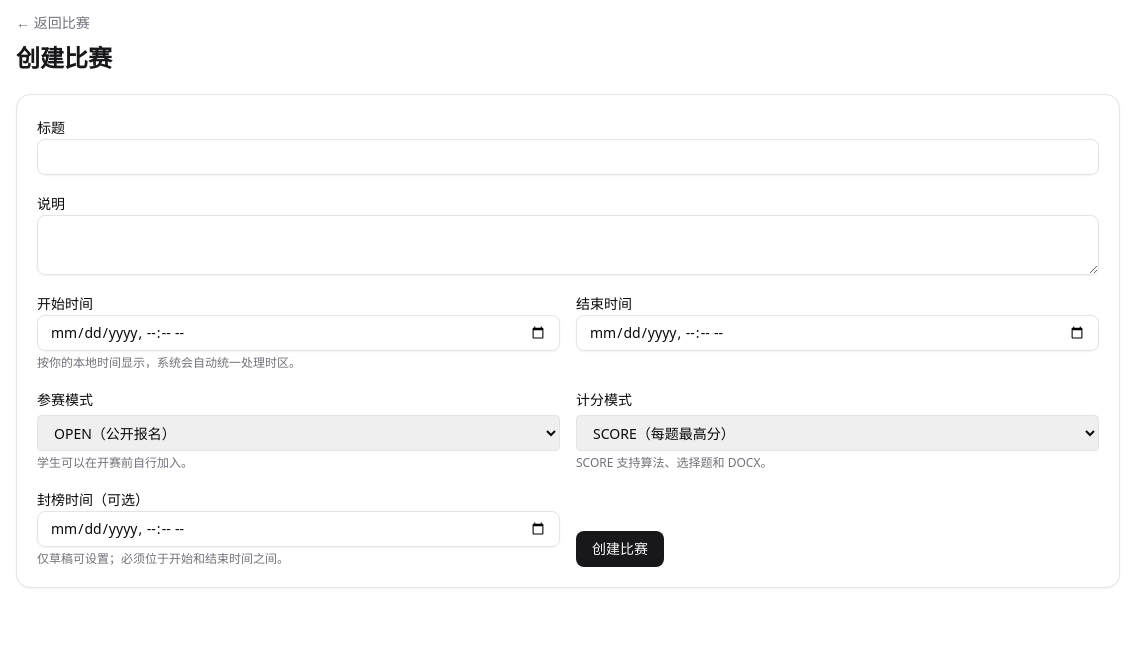
it: contest stage UI › validates a new contest form before sending it to the backend
This screenshot has width=1137, height=645.
Click the button "创建比赛".
click(620, 549)  # box x1=576 y1=531 x2=664 y2=567
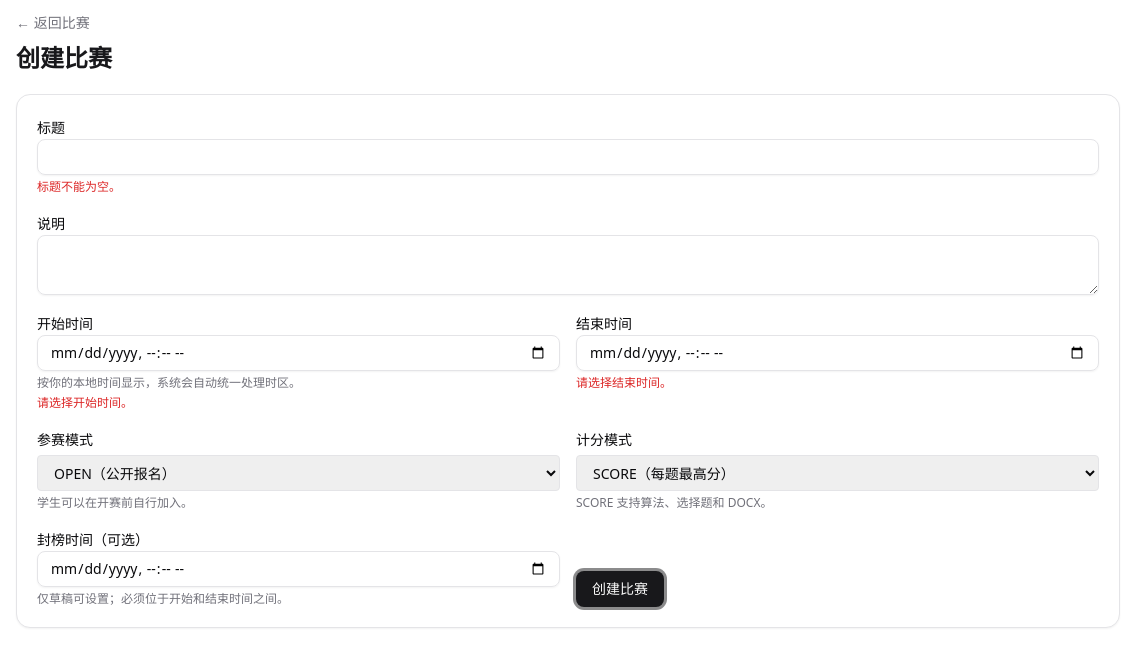
expect the text "标题不能为空。" is shown: met, box x1=37 y1=178 x2=121 y2=195
expect the text "请选择开始时间。" is shown: met, box x1=37 y1=394 x2=133 y2=411
expect the text "请选择结束时间。" is shown: met, box x1=576 y1=374 x2=672 y2=391
